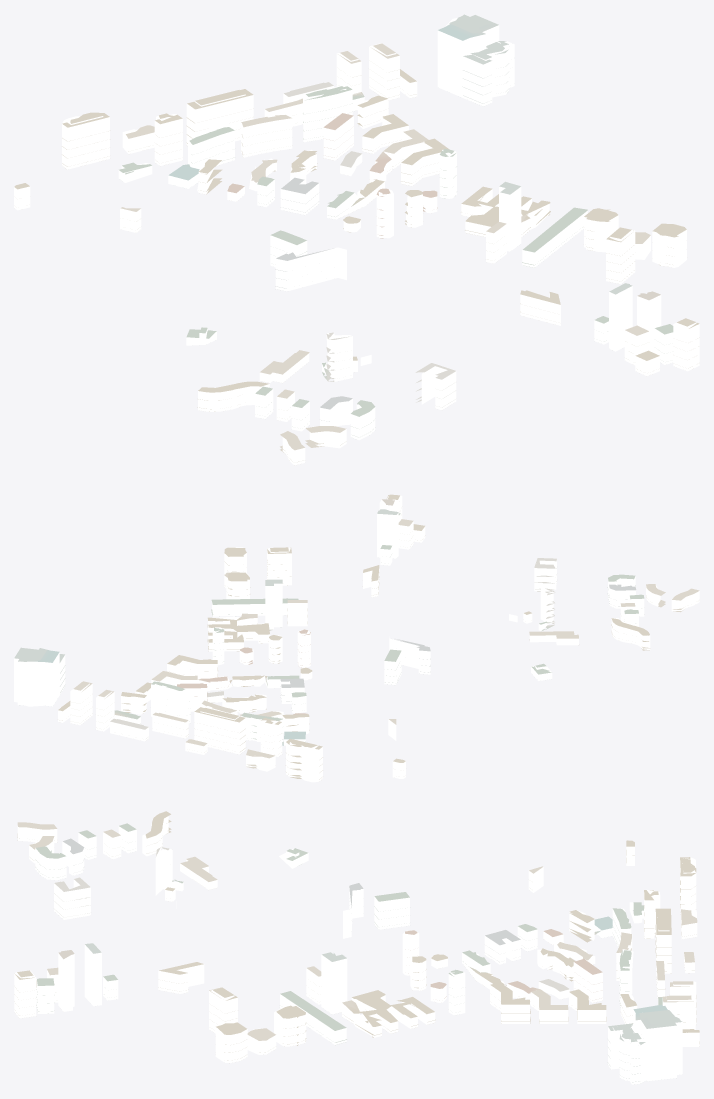
The model's file is buildings--1_1-coarse.glb.
The picture shows the model from 3 angles, top to bottom: view 1: azimuth 30°, elevation 25°; view 2: azimuth 150°, elevation 25°; view 3: azimuth 270°, elevation 25°; orthographic projection. The views are drawn at different scales.
Visible parts, largest first — view 1: block_-1_1_residential, block_-1_1_roof, block_-1_1_office; view 2: block_-1_1_residential, block_-1_1_roof, block_-1_1_office; view 3: block_-1_1_residential, block_-1_1_roof, block_-1_1_office.
Boxes of the visible parts, <box> form: block_-1_1_residential: <box>14,41,699,465</box>; block_-1_1_roof: <box>14,14,699,465</box>; block_-1_1_office: <box>168,18,661,353</box>; block_-1_1_residential: <box>58,495,699,782</box>; block_-1_1_roof: <box>14,494,699,779</box>; block_-1_1_office: <box>14,499,398,745</box>; block_-1_1_residential: <box>14,816,699,1084</box>; block_-1_1_roof: <box>14,811,699,1084</box>; block_-1_1_office: <box>58,925,682,1081</box>.
Bounding box in the file's own units: 566 × 57.76 × 640.
